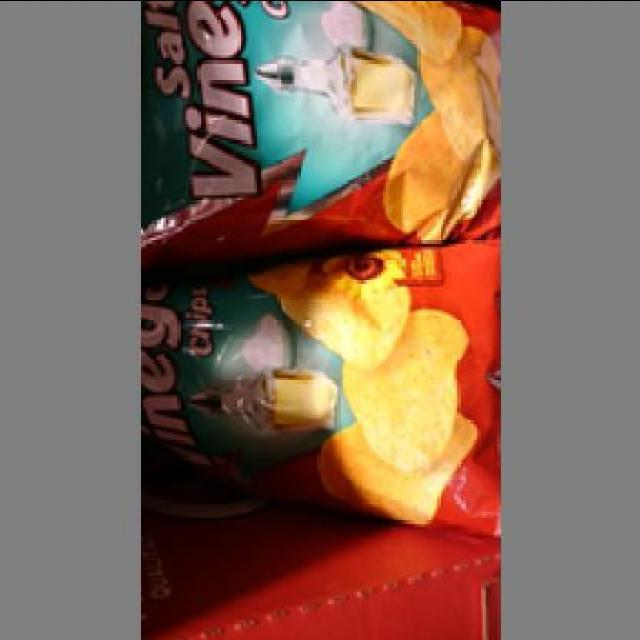Chips: (140, 247, 494, 530), (137, 3, 494, 254)
